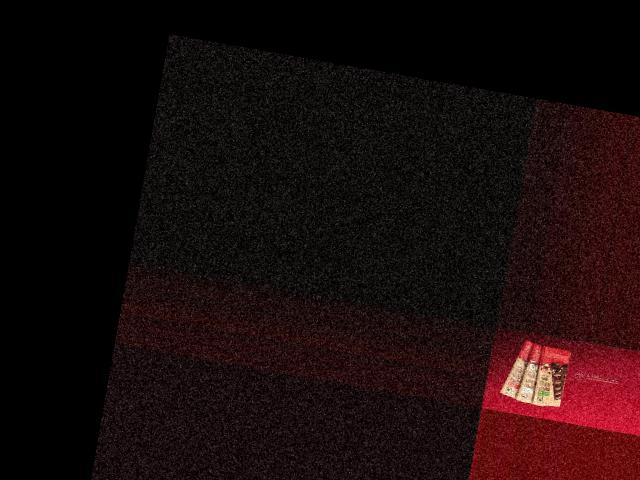chocolate: (499, 334, 540, 404)
